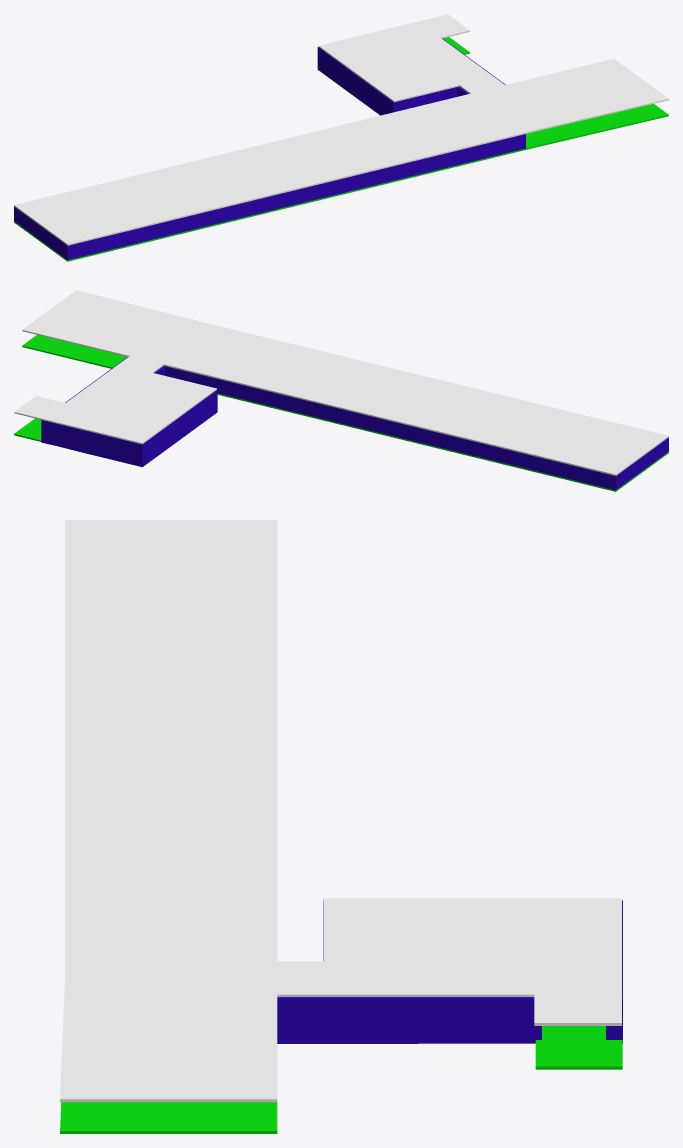
The model's file is OmGTU_8k_Test.glb.
3 views of the same model, one above another, from view 1: azimuth 30°, elevation 25°; view 2: azimuth 150°, elevation 25°; view 3: azimuth 270°, elevation 25° (orthographic). The views are drawn at different scales.
Parts seen in each view (by area): view 1: Top, Walls building, Bottom; view 2: Top, Walls building, Bottom; view 3: Top, Walls building, Bottom.
Part boxes in pixels (box(x1,y1,x2,y2)): Top: box(14, 14, 668, 245); Walls building: box(14, 38, 525, 260); Bottom: box(14, 37, 668, 261); Top: box(14, 290, 668, 475); Walls building: box(41, 357, 668, 490); Bottom: box(14, 335, 668, 491); Top: box(60, 520, 621, 1102); Walls building: box(277, 900, 622, 1043); Bottom: box(60, 1026, 622, 1133).
Size of the model in its own units: 207 by 7.95 by 85.17.
